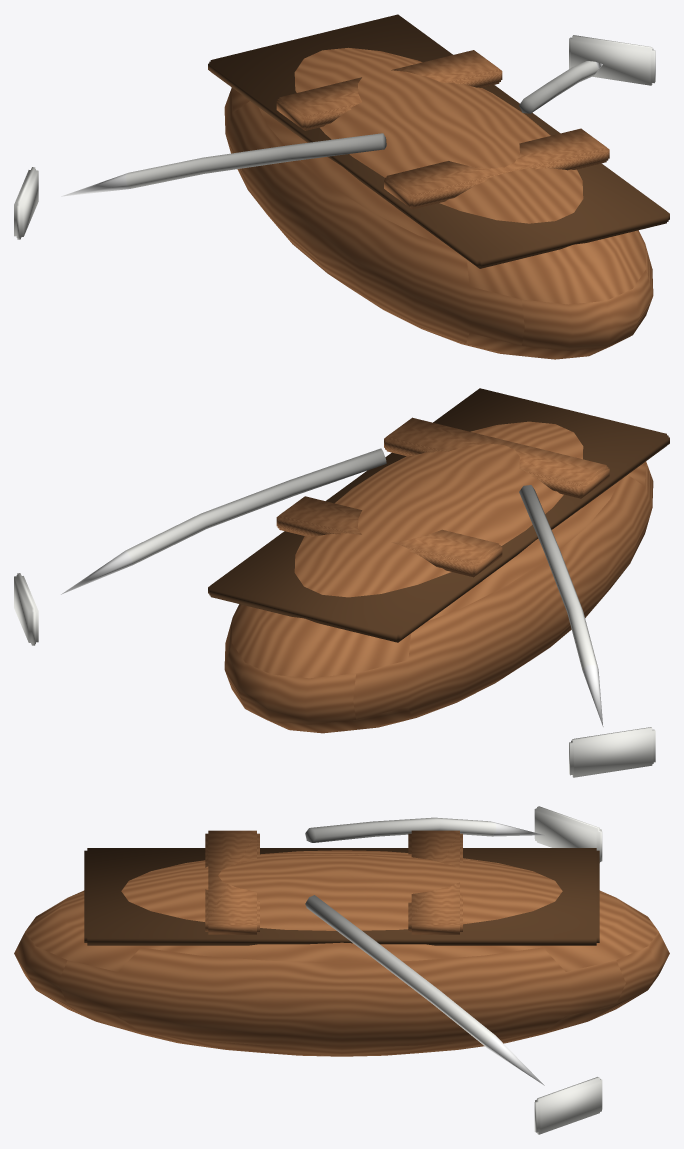
Rendered from RowBoat.fbx.
3 renders of one model, top to bottom at view 1: azimuth 30°, elevation 25°; view 2: azimuth 150°, elevation 25°; view 3: azimuth 270°, elevation 25°, orthographic. The views are drawn at different scales.
Visible parts, largest first — view 1: RowBoat; view 2: RowBoat; view 3: RowBoat.
Boxes of the visible parts, x1,y1,x2,y2 form: RowBoat: (14, 14, 669, 359); RowBoat: (14, 388, 669, 777); RowBoat: (14, 806, 669, 1134).
Bounding box in the file's own units: 447 × 124 × 420.
1 material, 1 textured.
